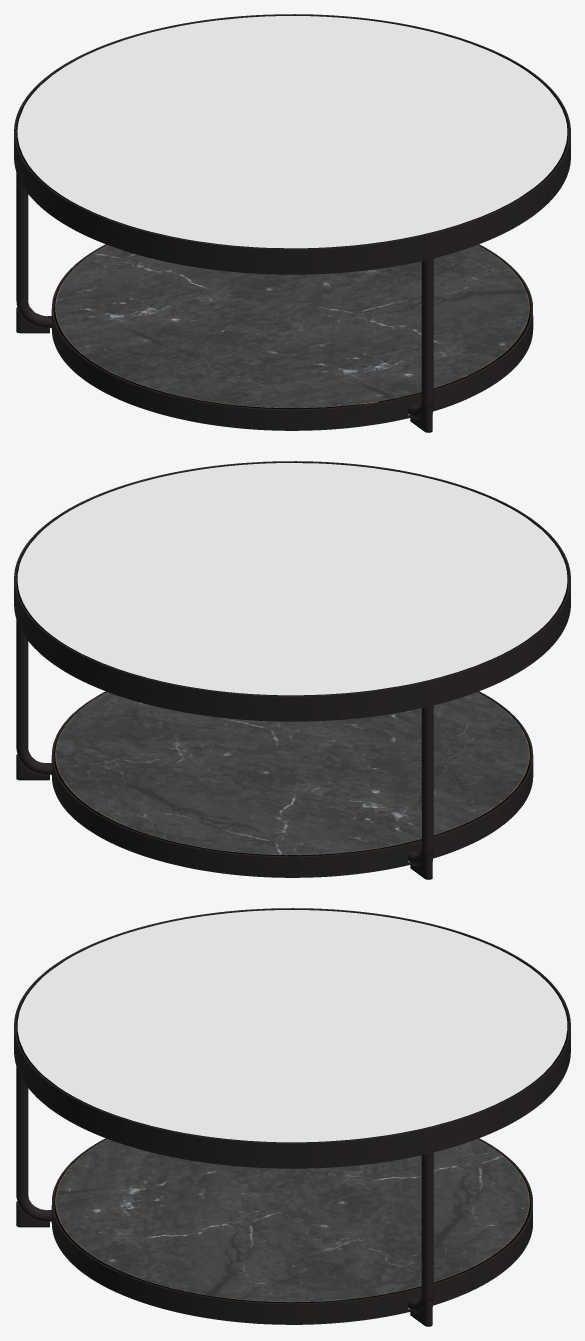
3 renders of one model, top to bottom at view 1: azimuth 30°, elevation 25°; view 2: azimuth 150°, elevation 25°; view 3: azimuth 270°, elevation 25°, orthographic.
Parts seen in each view (by area): view 1: 70497582-FRÃƒâ€“TORP001; view 2: 70497582-FRÃƒâ€“TORP001; view 3: 70497582-FRÃƒâ€“TORP001.
Part boxes in pixels (<box>): 70497582-FRÃƒâ€“TORP001: <box>14,14,570,432</box>; 70497582-FRÃƒâ€“TORP001: <box>14,461,570,879</box>; 70497582-FRÃƒâ€“TORP001: <box>14,908,570,1326</box>.
Size of the model in its own units: 0.884 by 0.35 by 0.884.
2 materials, 2 textured.
